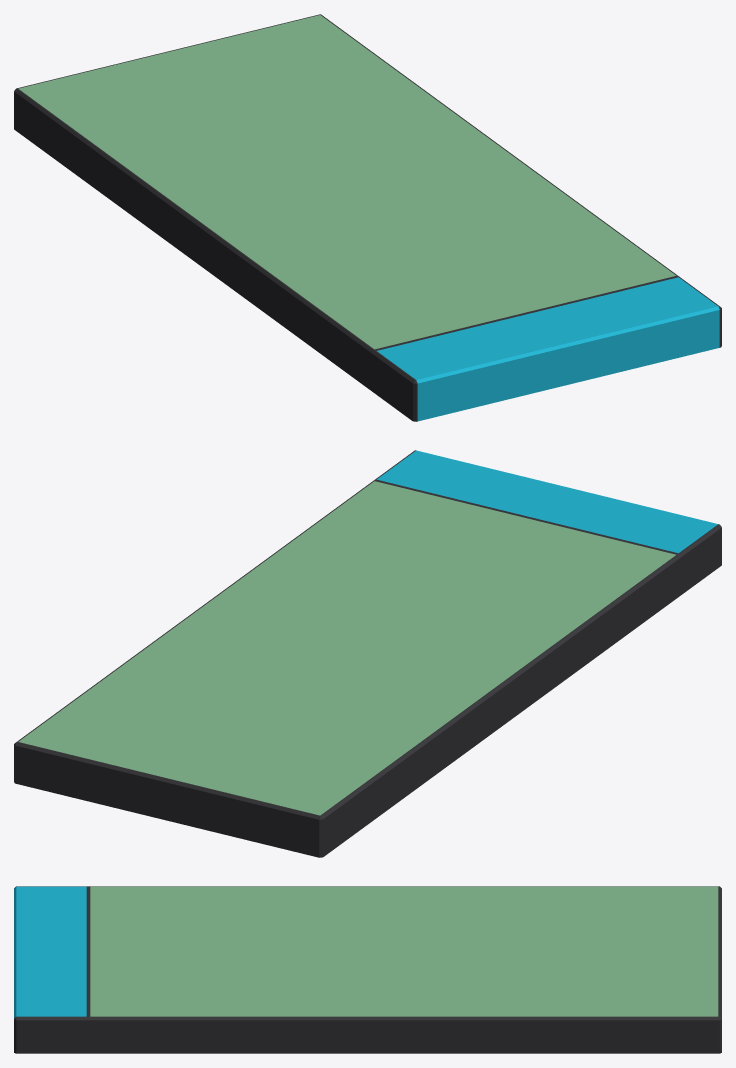
Rendered from lightblue_sector.glb.
3 renders of one model, top to bottom at view 1: azimuth 30°, elevation 25°; view 2: azimuth 150°, elevation 25°; view 3: azimuth 270°, elevation 25°, orthographic. The views are drawn at different scales.
Parts seen in each view (by area): view 1: lightblue_sector.002; view 2: lightblue_sector.002; view 3: lightblue_sector.002.
Part boxes in pixels (left/top/right/bottom): lightblue_sector.002: left=14, top=14, right=721, bottom=421; lightblue_sector.002: left=14, top=450, right=721, bottom=857; lightblue_sector.002: left=14, top=886, right=721, bottom=1053.
Size of the model in its own units: 8 by 1 by 18.
Materials: 1 (1 with a texture image).
